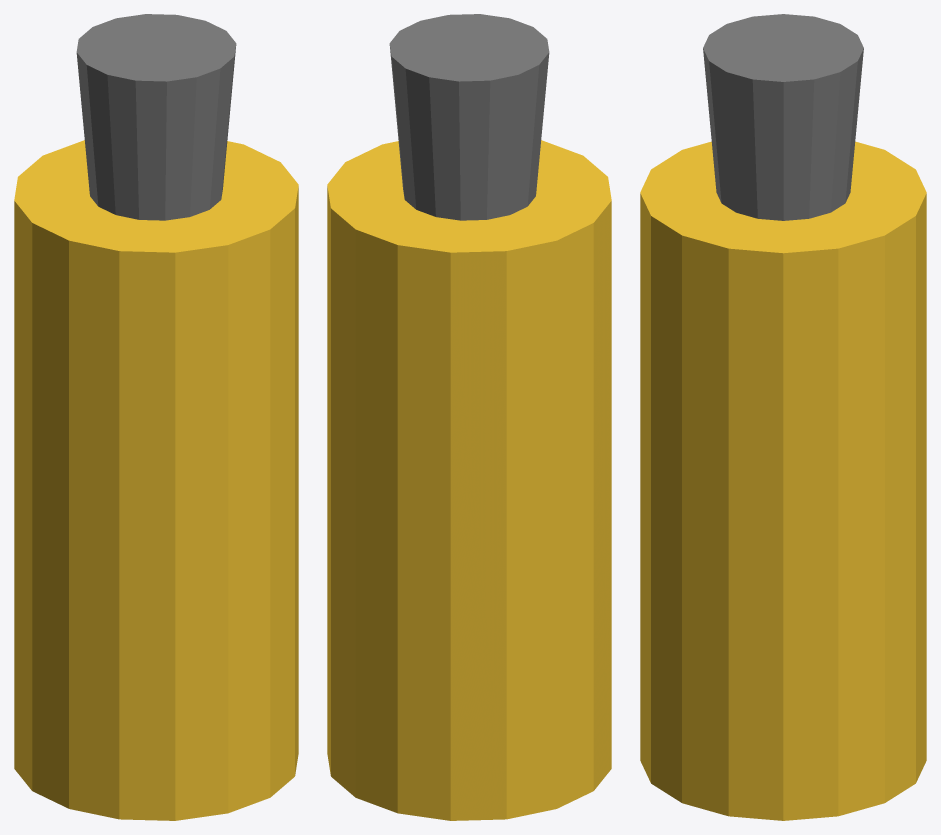
The model's file is Shampo.fbx.
3 views of the same model, side by side, from view 1: azimuth 30°, elevation 25°; view 2: azimuth 150°, elevation 25°; view 3: azimuth 270°, elevation 25° (orthographic).
Parts seen in each view (by area): view 1: Shampo; view 2: Shampo; view 3: Shampo.
Part boxes in pixels (x1,y1,x2,y2): Shampo: (14, 14, 298, 820); Shampo: (327, 14, 611, 820); Shampo: (640, 14, 926, 820).
Bounding box in the file's own units: 0.0575 × 0.1576 × 0.0575.
